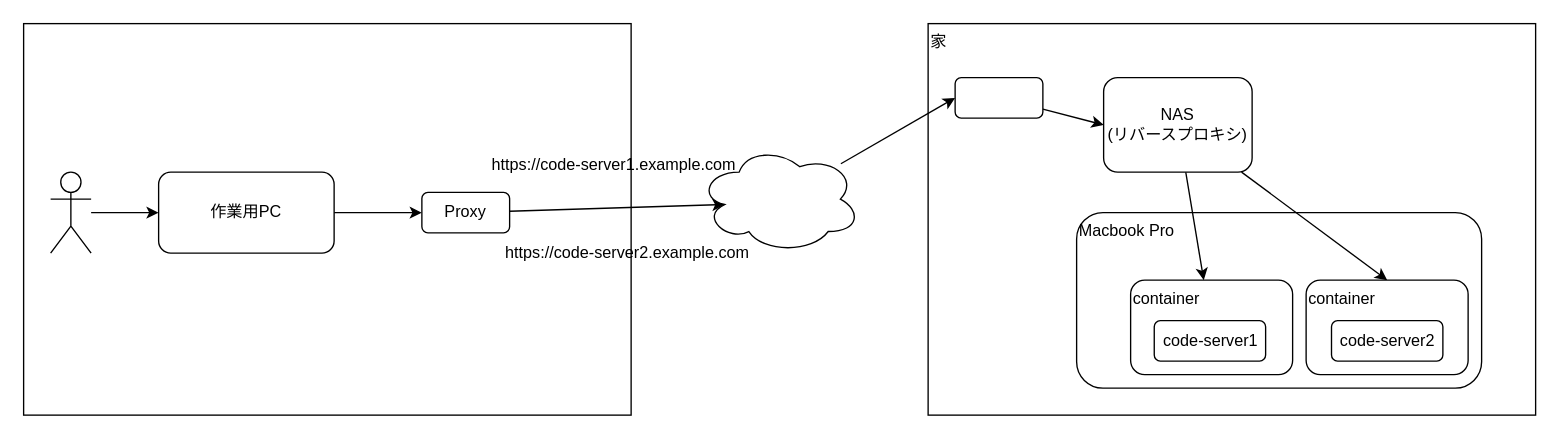
This 1559x439 diagram has some shape labels left out. The box of each missing label's shape, as (x1, y1, x2, y2) in pixels:
Internet: (697, 144, 861, 253)
Router: (954, 76, 1043, 118)
User: (49, 171, 91, 253)
会社: (22, 22, 631, 415)
